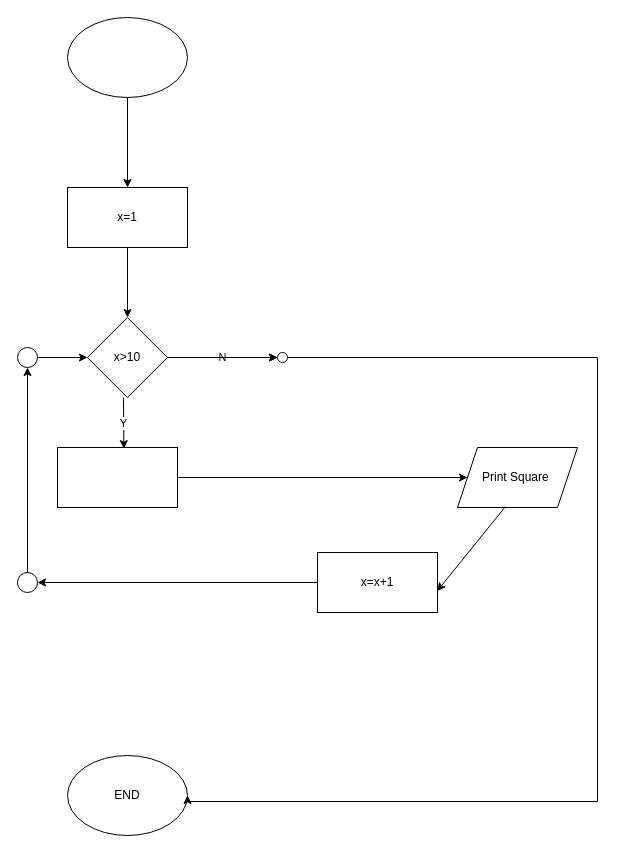
Some shapes in this 623 by 853 pixel diagram are drawn without their labels. Here are the shapes that lost their labels. From the top down, the centre of each, then its label:
At (x=127, y=57): "START".
At (x=117, y=477): "square= x*x".
